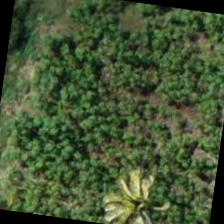Kelapa_Sawit: (88, 161, 187, 223)
